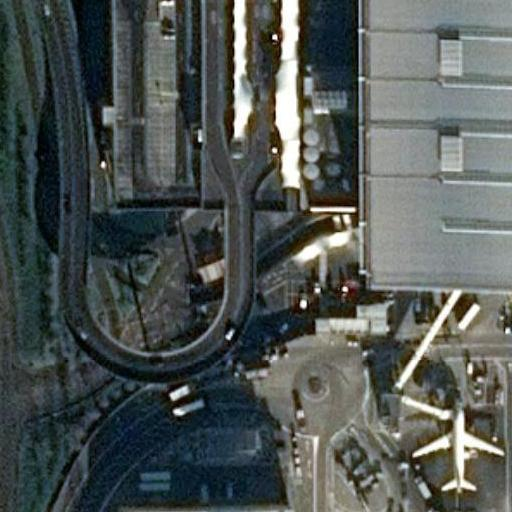Aircraft: (409, 402, 504, 493)
